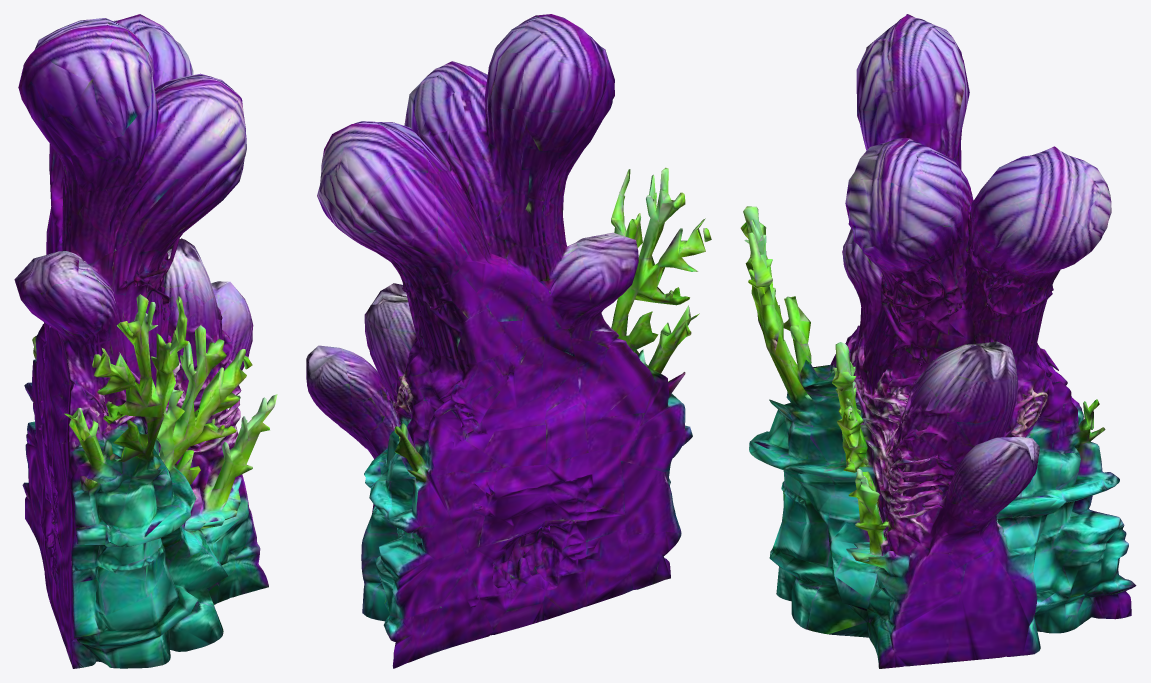
3 views of the same model, side by side, from view 1: azimuth 30°, elevation 25°; view 2: azimuth 150°, elevation 25°; view 3: azimuth 270°, elevation 25° (orthographic). The views are drawn at different scales.
Bounding box in the file's own units: 0.9609 × 1.89 × 1.19.
1 material, 1 textured.
